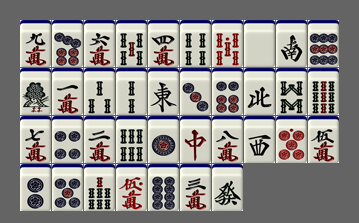0m: (116, 164, 147, 211)
0p: (276, 116, 307, 163)
0s: (212, 20, 243, 67)
1m: (52, 68, 83, 115)
1p: (148, 116, 179, 163)
1s: (20, 68, 51, 115)
1z: (148, 68, 179, 115)
2m: (84, 116, 115, 163)
2p: (20, 164, 51, 211)
2s: (116, 68, 147, 115)
2z: (276, 20, 307, 67)
3m: (180, 164, 211, 211)
3p: (180, 68, 211, 115)
3s: (84, 68, 115, 115)
3z: (244, 116, 275, 163)
4m: (148, 20, 179, 67)
4p: (52, 116, 83, 163)
4s: (180, 20, 211, 67)
4z: (244, 68, 275, 115)
5m: (308, 116, 339, 163)
5p: (52, 164, 83, 211)
5s: (116, 20, 147, 67)
5z: (244, 20, 275, 67)
6m: (84, 20, 115, 67)
6p: (212, 68, 243, 115)
6s: (116, 116, 147, 163)
6z: (212, 164, 243, 211)
7m: (20, 116, 51, 163)
7p: (52, 20, 83, 67)
7s: (84, 164, 115, 211)
7z: (180, 116, 211, 163)
8m: (212, 116, 243, 163)
8p: (148, 164, 179, 211)
8s: (276, 68, 307, 115)
9m: (20, 20, 51, 67)
9p: (308, 20, 339, 67)
9s: (308, 68, 339, 115)
